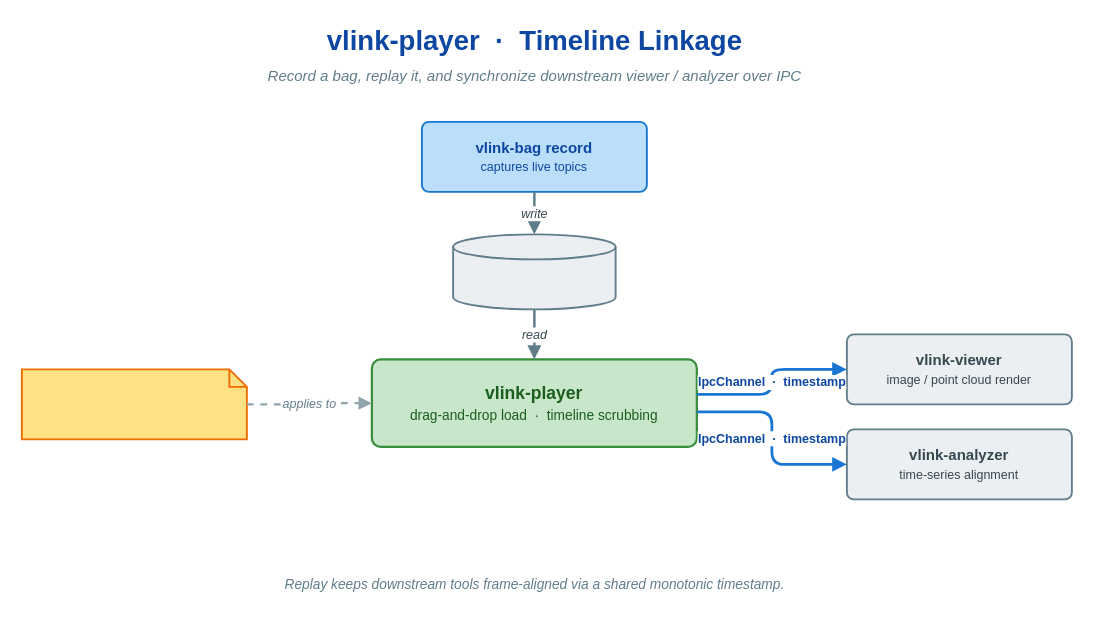
Image size: 1095x618. Some labels were removed from this diagram. Here are the shapes that lost their labels. From the top down, the centre of each, then its label:
At (534,271): "data.vdb".
At (133,404): "URL remap replay to alt topics".
